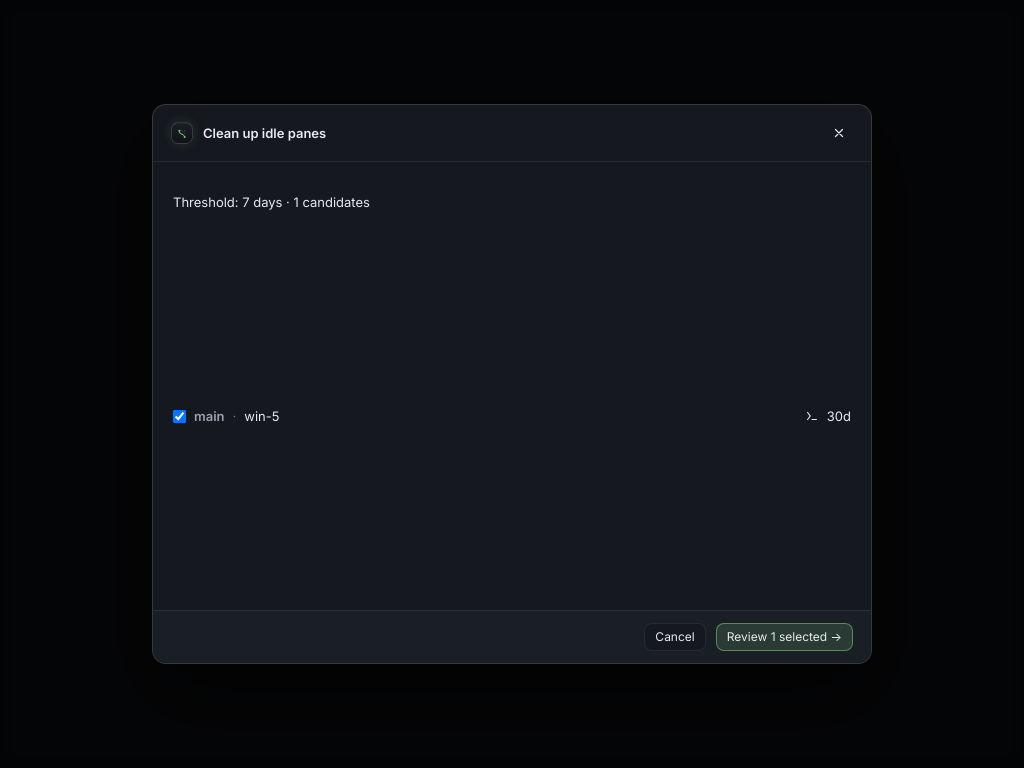
CleanupModal — Step 1 › disables the Review button when no rows are checked
Click the checkbox at [180, 416], box [173,410,186,423]
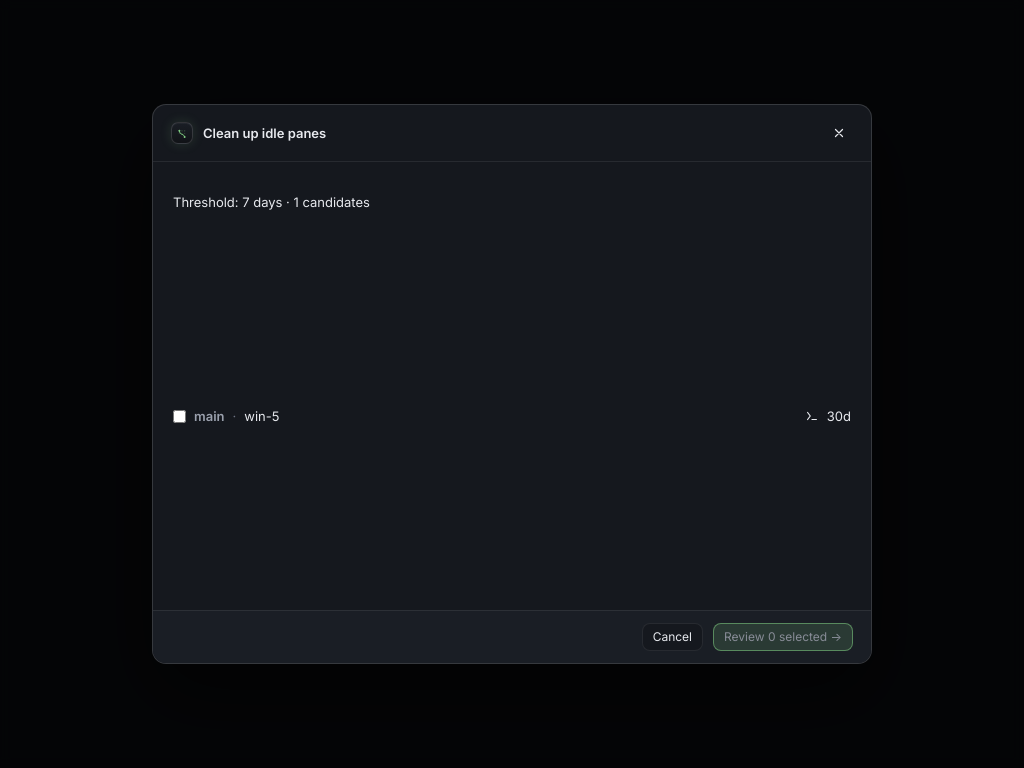
Expected: the button "Review 0 selected →" is disabled, [713,623,853,651]
